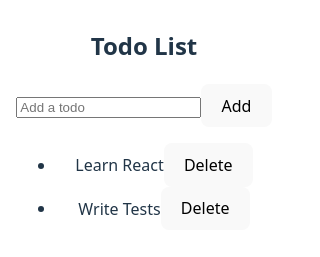
Test: adds a new todo
The width and height of the screenshot is (320, 257).
Type "New Todo" into the field with placeholder "Add a todo" at [109, 107], box [16,97,201,118]
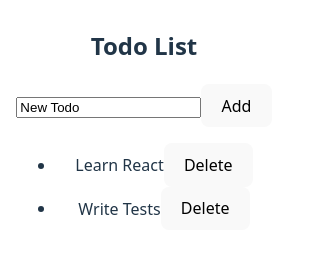
Click the button "Add" at [237, 106], box [201,84,272,127]
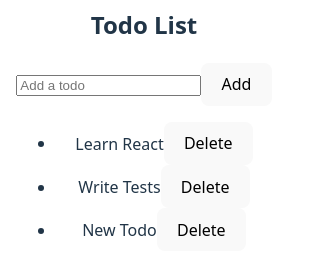
Expected: the list item "New Todo" is shown, [82,219,157,241]
